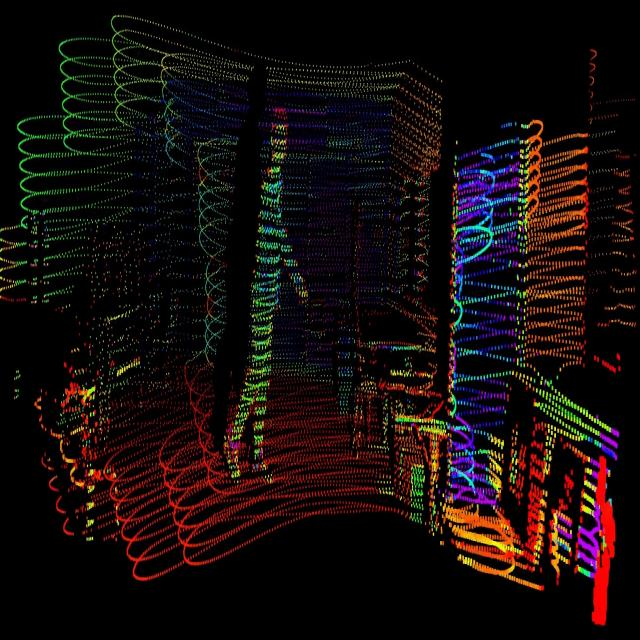human: (224, 97, 310, 486)
